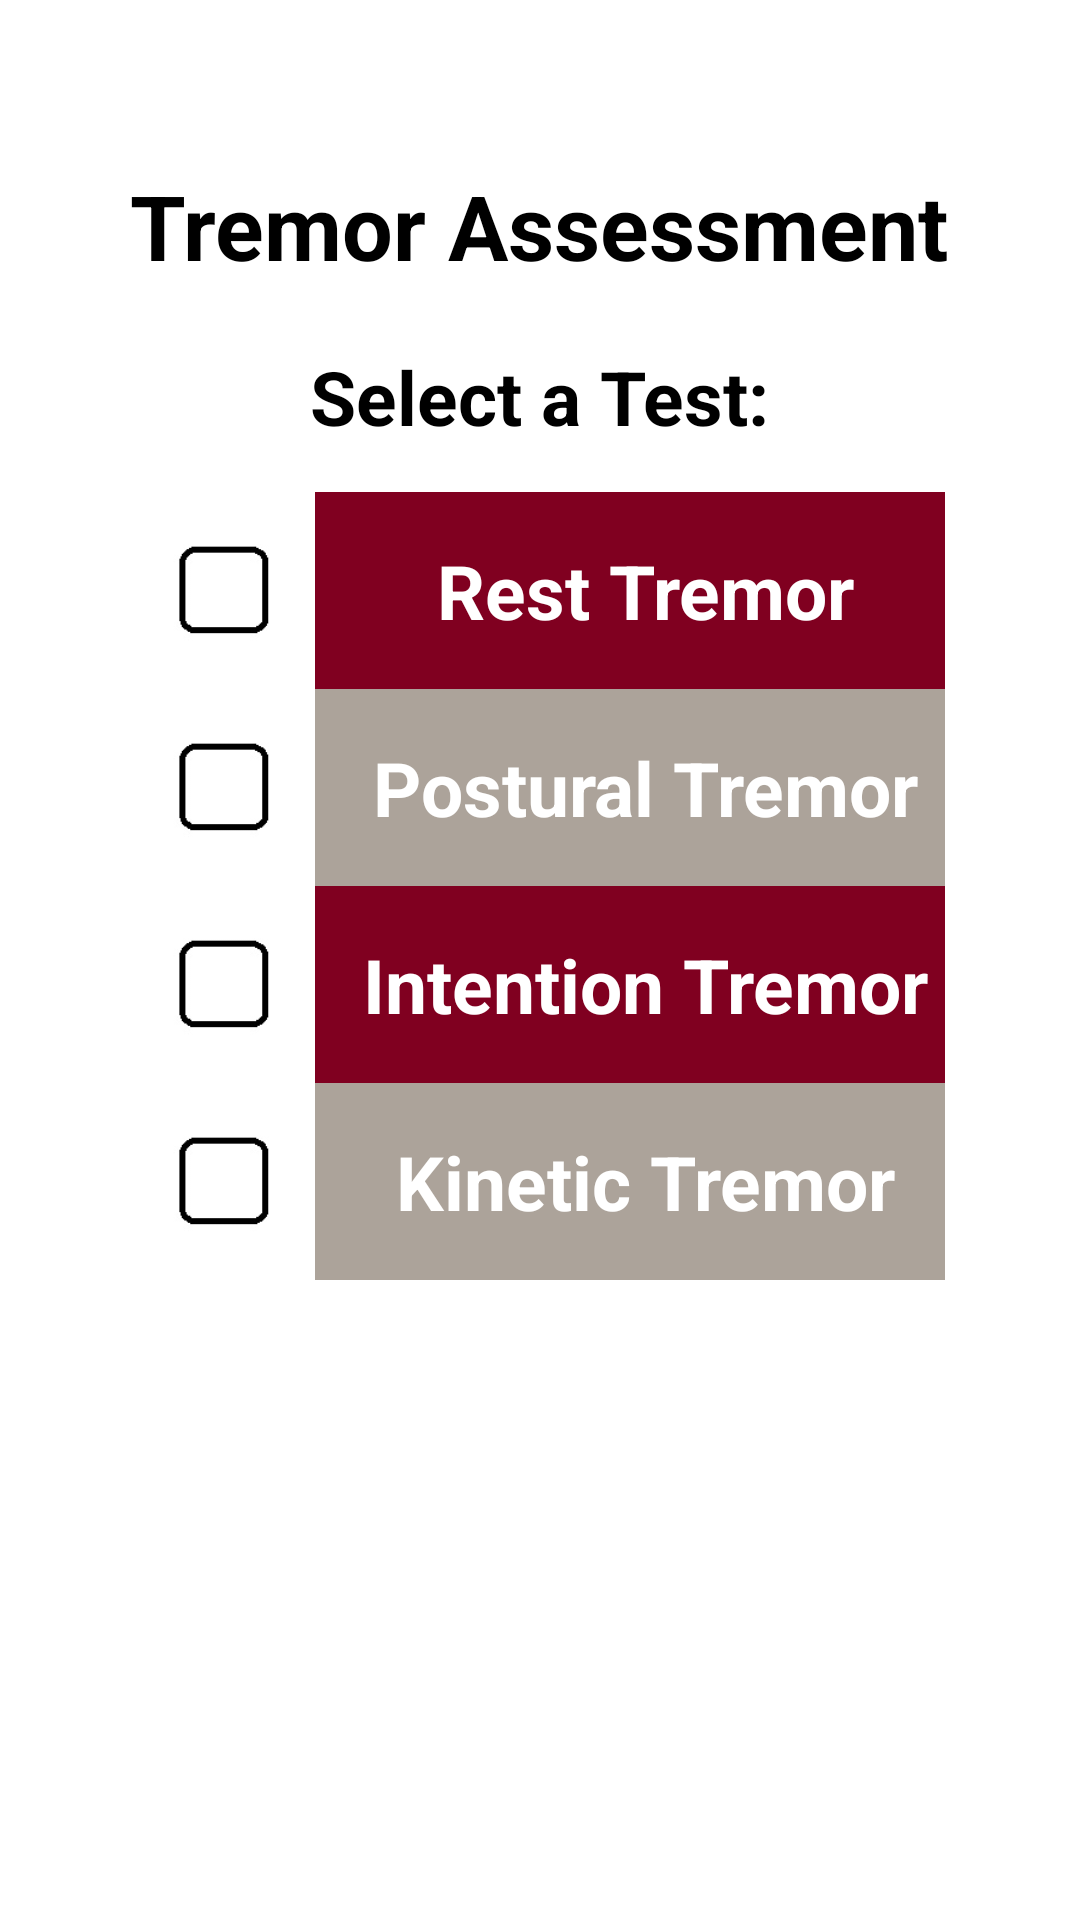

Icons on this 1080w x 1920h Android screen, each with the point to tap as (x,y):
checkbox: (224,590), (224,787), (224,984), (224,1181)
